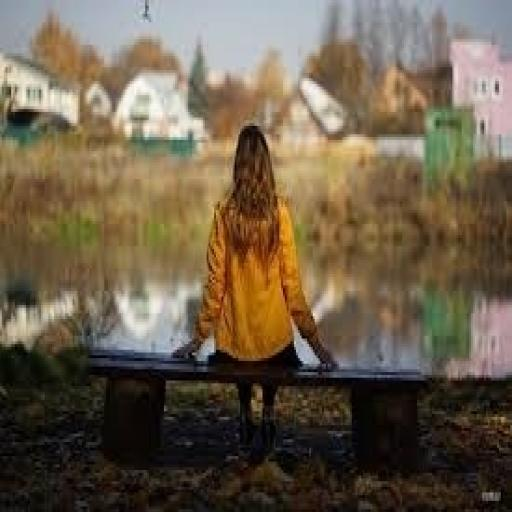sitting: (171, 120, 339, 456)
